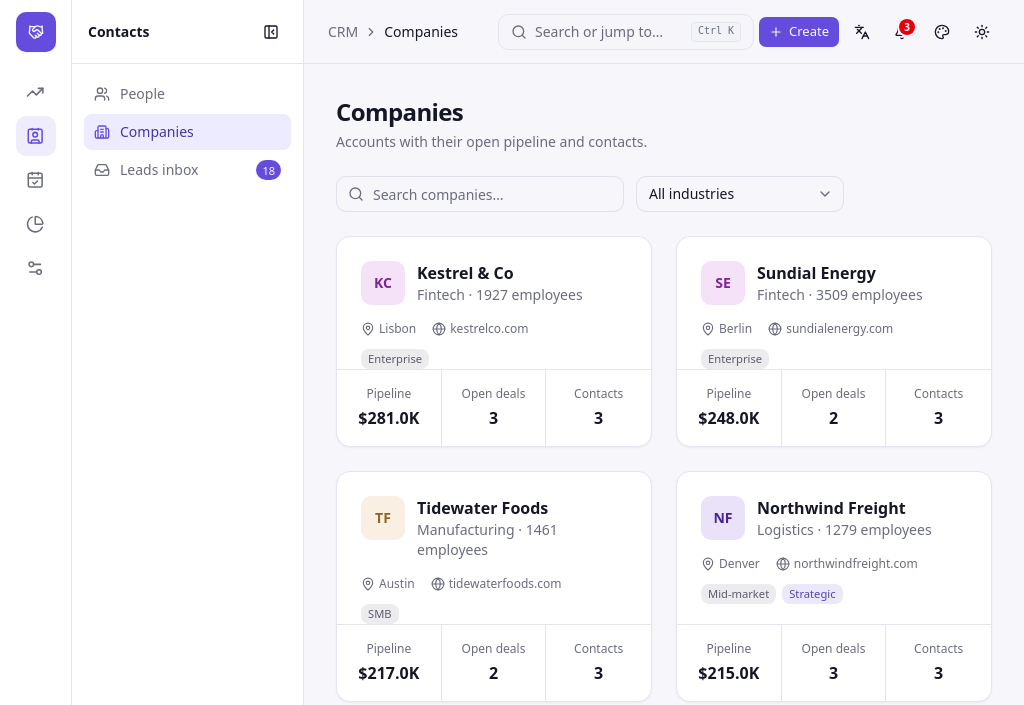
Test case: CRM workspace › opens a company from the companies grid
Step 1. Click the link "Northwind Freight" → (831, 508), box x1=757 y1=497 x2=906 y2=519
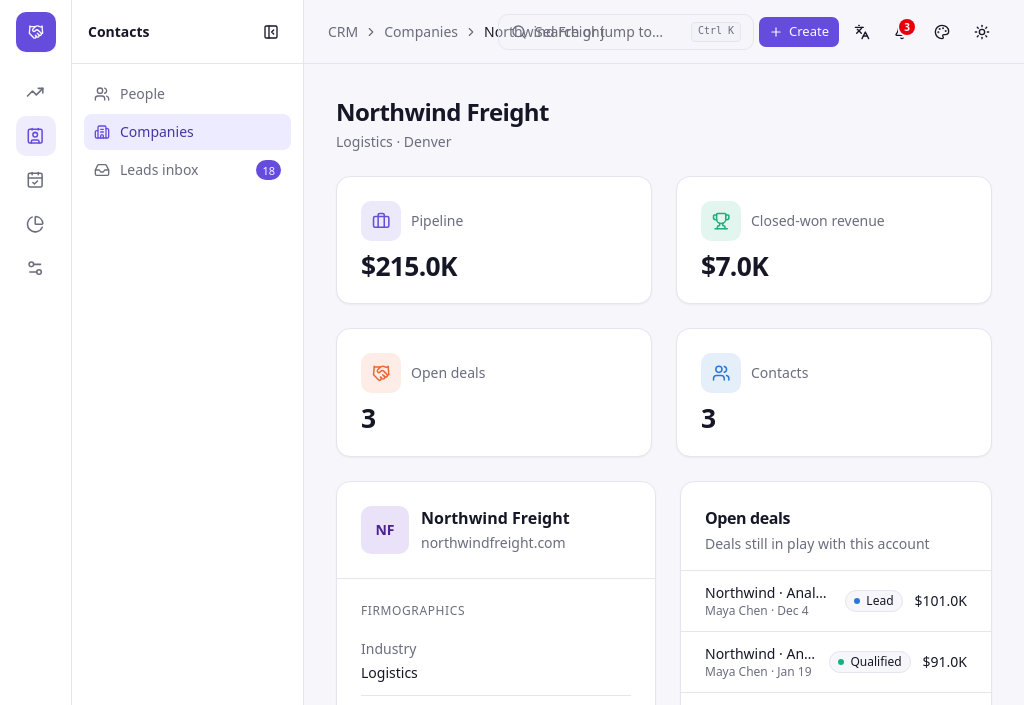
Check: the text "Firmographics" is shown, box x1=361 y1=602 x2=465 y2=619
Check: the text "Closed-won revenue" is shown, box x1=751 y1=211 x2=885 y2=231
